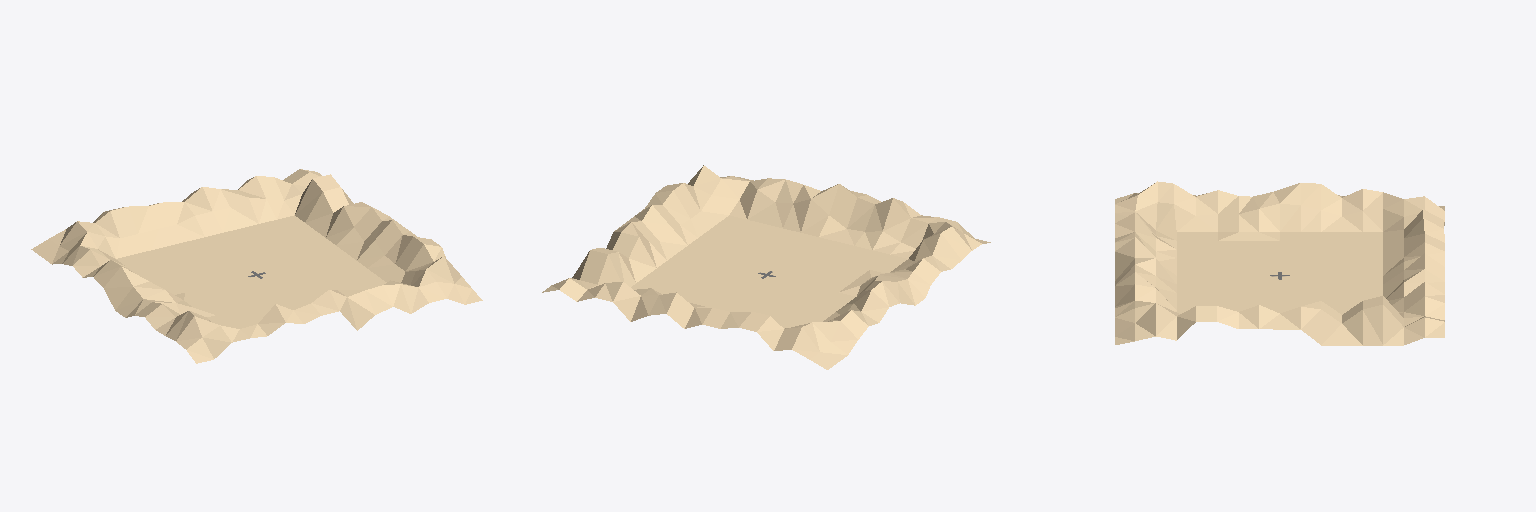
3 views of the same model, side by side, from view 1: azimuth 30°, elevation 25°; view 2: azimuth 150°, elevation 25°; view 3: azimuth 270°, elevation 25° (orthographic).
Visible parts, largest first — view 1: 平面; view 2: 平面; view 3: 平面.
Boxes of the visible parts, <box> form: 平面: <box>31,169,482,363</box>; 平面: <box>542,165,990,369</box>; 平面: <box>1115,181,1444,345</box>.
Size of the model in its own units: 403 by 51.26 by 400.
1 materials, 1 textured.